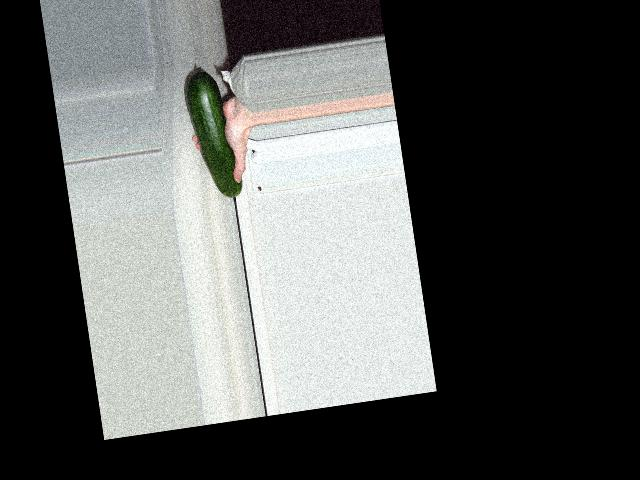cucumber: (180, 63, 243, 202)
